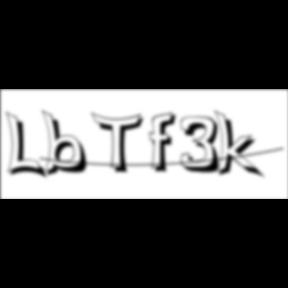3: (181, 116, 227, 176)
L: (6, 110, 50, 182)
T: (92, 112, 150, 176)
b: (42, 109, 94, 179)
f: (150, 111, 182, 175)
k: (214, 108, 266, 181)
